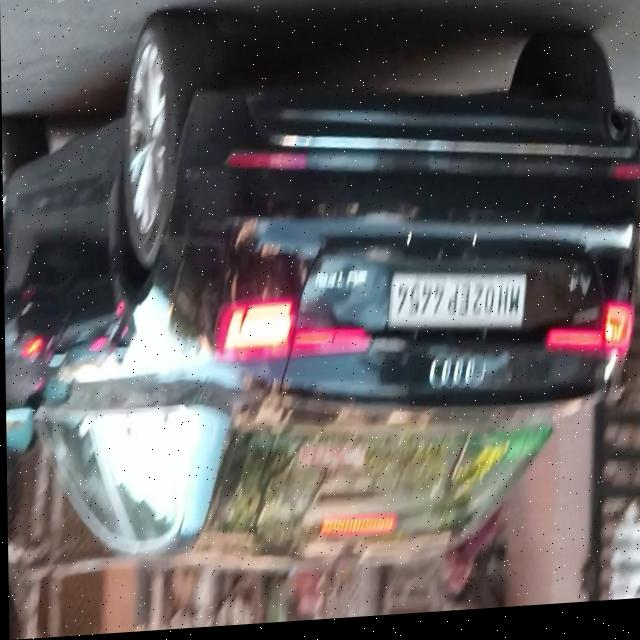plate: (385, 269, 523, 342)
